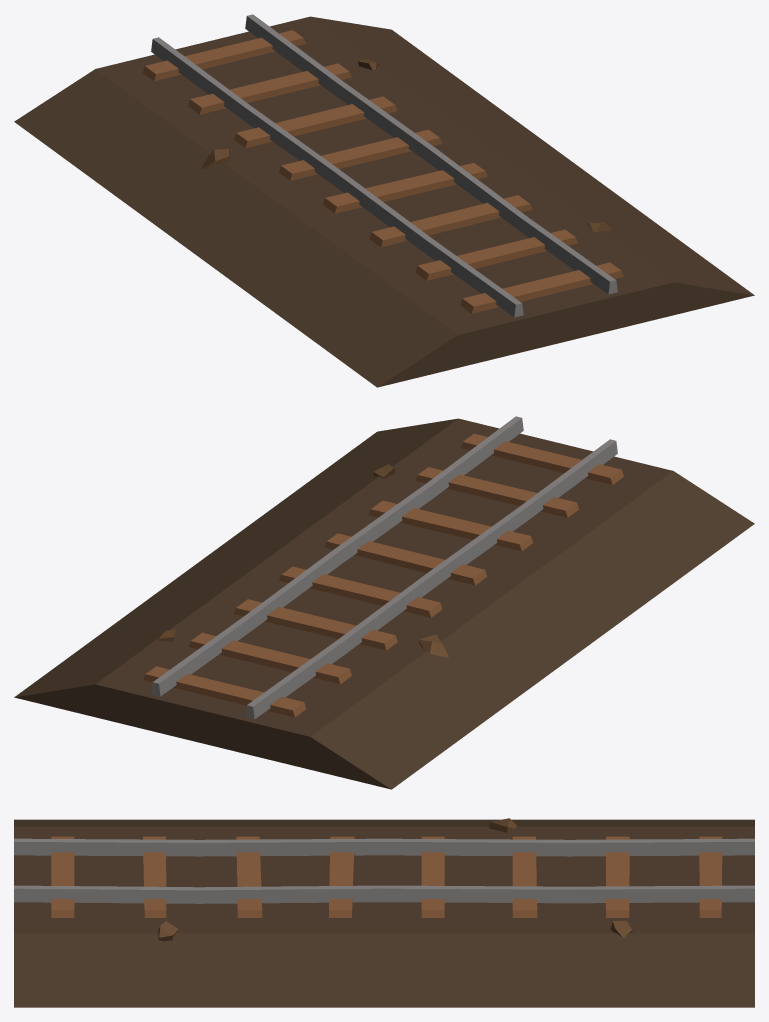
The model's file is rail-straight-bottom.glb.
3 renders of one model, top to bottom at view 1: azimuth 30°, elevation 25°; view 2: azimuth 150°, elevation 25°; view 3: azimuth 270°, elevation 25°, orthographic.
Visible parts, largest first — view 1: rail-straight-bottom; view 2: rail-straight-bottom; view 3: rail-straight-bottom.
Boxes of the visible parts, <box> form: rail-straight-bottom: <box>14,14,754,387</box>; rail-straight-bottom: <box>14,416,754,789</box>; rail-straight-bottom: <box>14,818,754,1007</box>.
Bounding box in the file's own units: 6 × 0.7458 × 10.
1 material, 1 textured.
